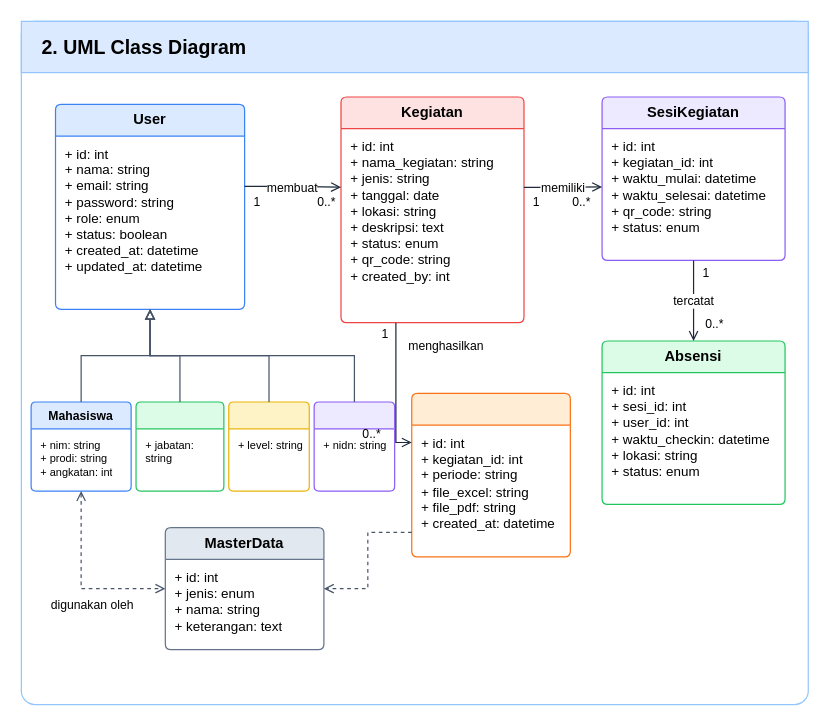
Some shapes in this 830 by 726 pixel diagram are drawn without their labels. The shapes that lost their labels are listed below. From the top down, each one's box as (x1, y1, x2, y2) in pixels, then its label:
(135, 401, 224, 491): Panitia
(228, 401, 309, 491): Admin
(313, 401, 395, 491): Dosen
(411, 392, 570, 557): Laporan
